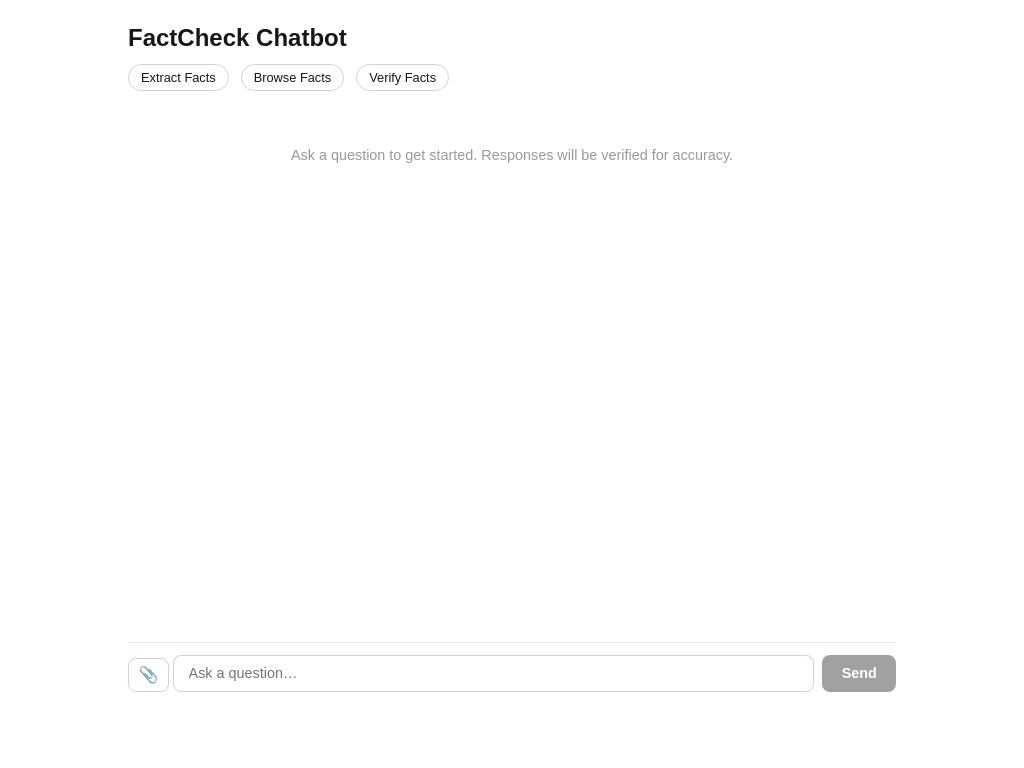
Scenario: Chatbot UI – verification status display › displays a Verified label on assistant response with verified status
The image size is (1024, 768).
Type "What temperature does water boil at?" into the field named "chat input".
click(494, 673); type("What temperature does water boil at?")  # box [173,655,814,692]
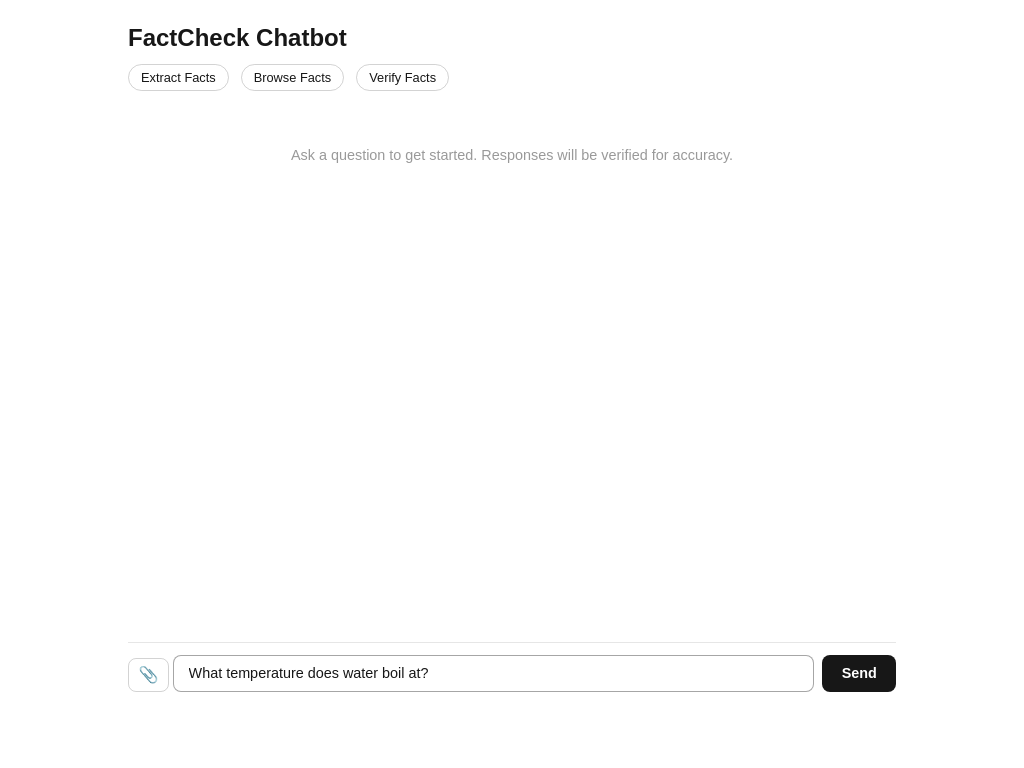
Click the button with aria-label "send message".
click(859, 673)  # box [822,655,896,692]
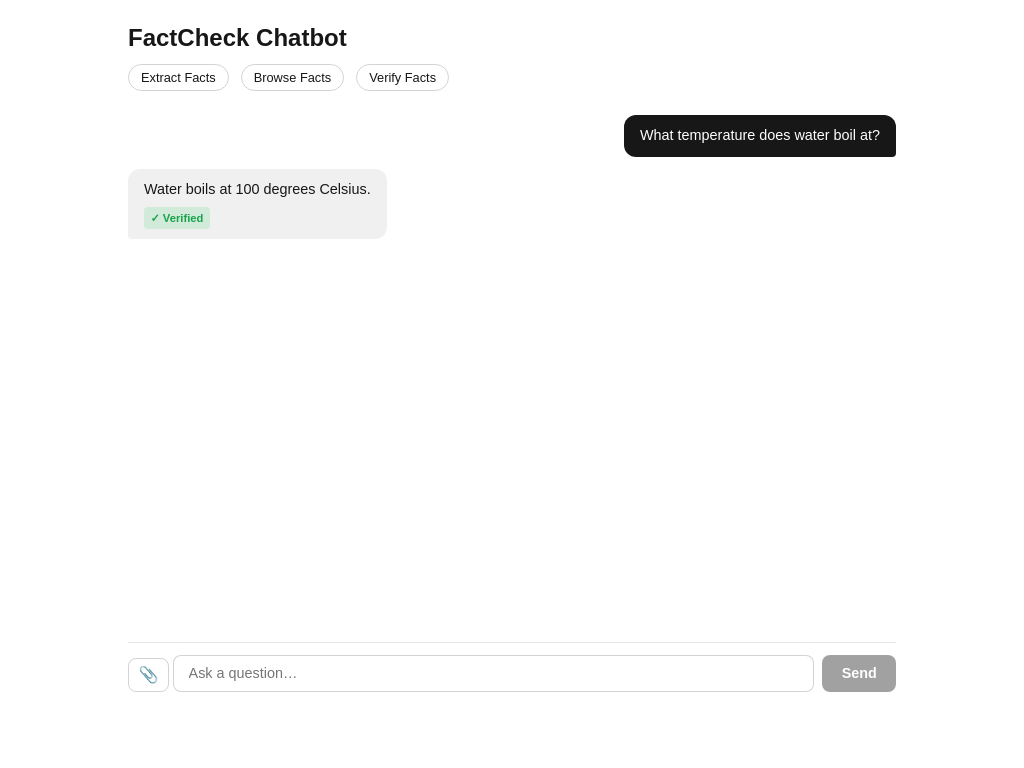
Expected: the picture "✓ Verified" is shown, [144,207,210,229]
